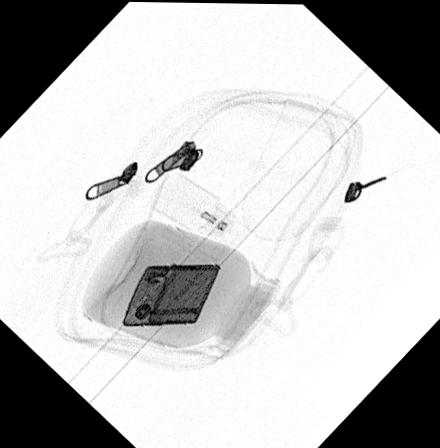Lighter: (120, 262, 221, 327)
